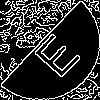E: (25, 25, 83, 80)
